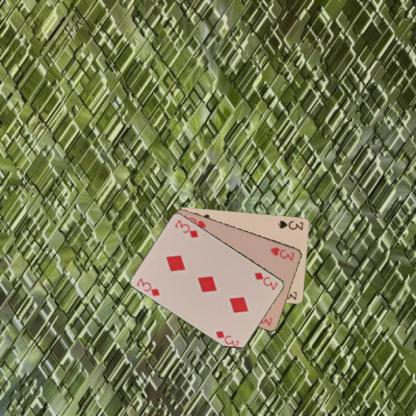3d: (252, 269, 279, 291), (134, 276, 161, 298)
3h: (268, 244, 296, 262)
3s: (275, 218, 304, 231)
